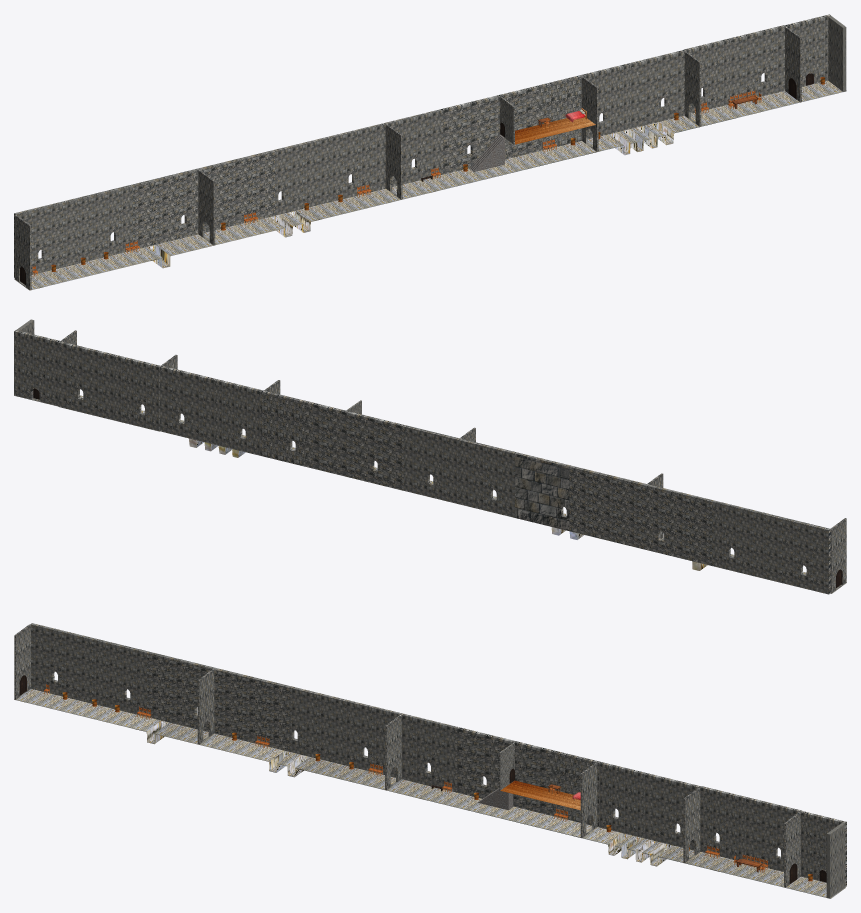
Rendered from mapa.FBX.
The picture shows the model from 3 angles, top to bottom: view 1: azimuth 30°, elevation 25°; view 2: azimuth 150°, elevation 25°; view 3: azimuth 330°, elevation 25°; orthographic projection.
Visible parts, largest first — view 1: пол 1 этаж, Box030, Box026, Box029, Box028, Box031, Box023, Box052, Box032, Box027, Box024, Box053 (+12 smaller); view 2: Box030, Box026, Box032, Box052, Box023, Box028, Box027, Box029, Box031, Box024, Box053, Box025 (+3 smaller); view 3: пол 1 этаж, Box030, Box026, Box032, Box029, Box031, Box027, Box024, Box053, Box023, Box028, Box052 (+11 smaller).
Part boxes in pixels (left/top/right/bottom): пол 1 этаж: left=14, top=81, right=846, bottom=290; Box030: left=131, top=150, right=274, bottom=249; Box026: left=439, top=85, right=540, bottom=174; Box029: left=273, top=136, right=330, bottom=215; Box028: left=329, top=123, right=385, bottom=201; Box031: left=77, top=185, right=132, bottom=263; Box023: left=628, top=50, right=685, bottom=128; Box052: left=728, top=25, right=785, bottom=103; Box032: left=14, top=198, right=78, bottom=277; Box027: left=384, top=109, right=441, bottom=188; Box024: left=583, top=63, right=629, bottom=139; Box053: left=683, top=39, right=729, bottom=113; Box030: left=569, top=466, right=713, bottom=565; Box026: left=305, top=401, right=405, bottom=490; Box032: left=765, top=514, right=830, bottom=594; Box052: left=58, top=341, right=115, bottom=420; Box023: left=159, top=365, right=216, bottom=444; Box028: left=459, top=439, right=516, bottom=517; Box027: left=404, top=425, right=460, bottom=504; Box029: left=514, top=452, right=571, bottom=530; Box031: left=712, top=500, right=768, bottom=578; Box024: left=215, top=379, right=261, bottom=455; Box053: left=114, top=355, right=160, bottom=431; Box025: left=260, top=390, right=306, bottom=466; пол 1 этаж: left=16, top=689, right=845, bottom=898; Box030: left=147, top=651, right=290, bottom=751; Box026: left=455, top=726, right=555, bottom=816; Box032: left=30, top=623, right=93, bottom=703; Box029: left=289, top=686, right=345, bottom=764; Box031: left=91, top=638, right=148, bottom=716; Box027: left=400, top=713, right=456, bottom=791; Box024: left=599, top=762, right=644, bottom=838; Box053: left=700, top=786, right=745, bottom=859; Box023: left=643, top=772, right=700, bottom=850; Box028: left=344, top=699, right=401, bottom=777; Box052: left=744, top=797, right=801, bottom=871.
Size of the model in its own units: 3664 by 321 by 134.
